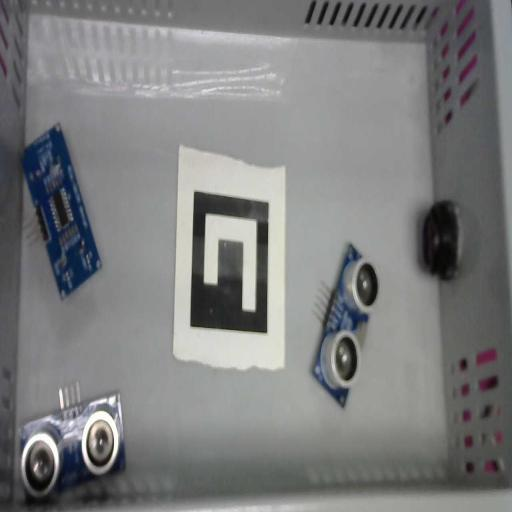QR: (189, 188, 269, 337)
ultrasonic_hc-sr04: (18, 119, 102, 304), (16, 373, 126, 506), (307, 240, 380, 412)
